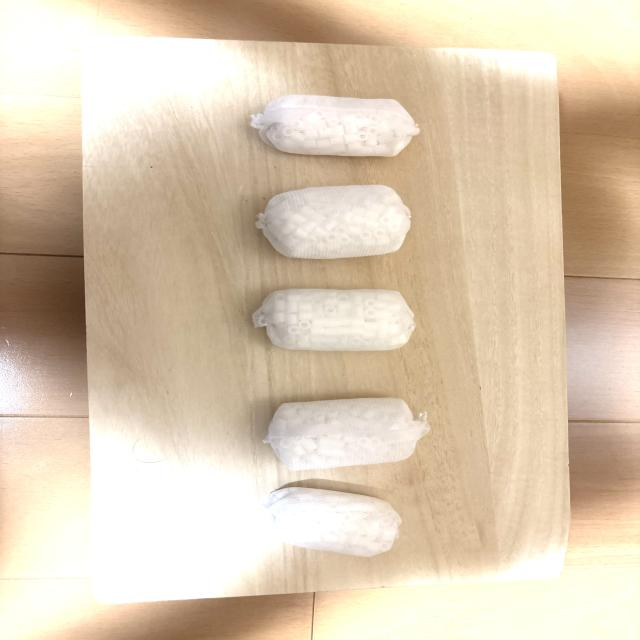NG: (263, 398, 430, 471), (256, 184, 410, 259), (251, 95, 419, 157), (252, 289, 415, 352), (265, 487, 401, 557)
